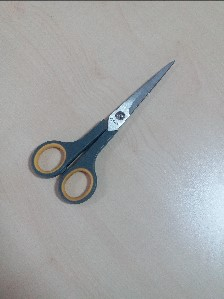scissors: (25, 58, 178, 210)
